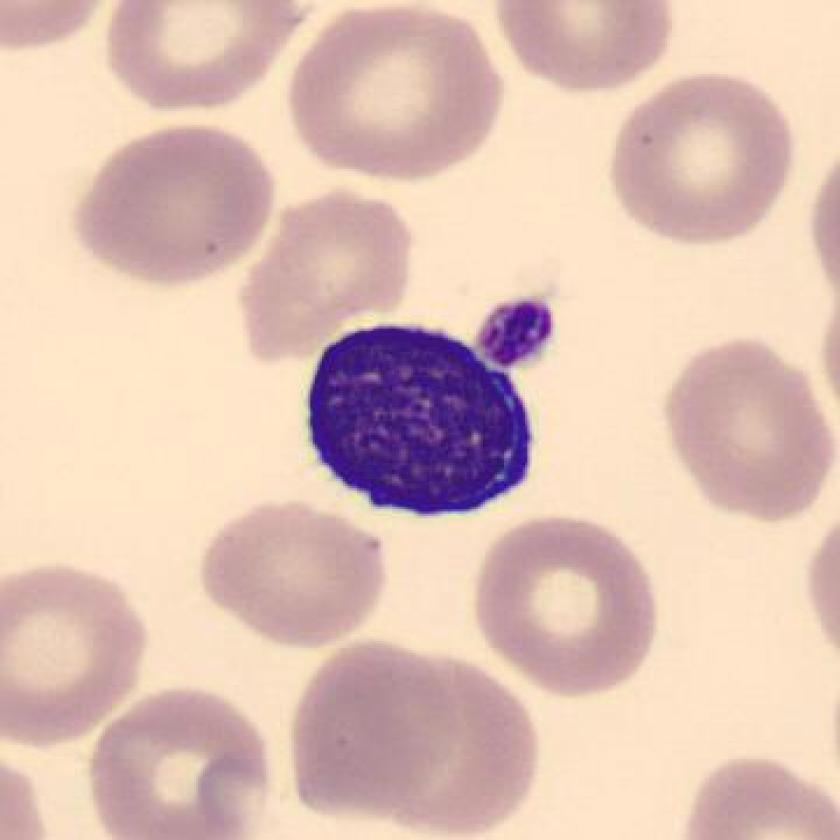lymphocyte: (288, 318, 542, 538)
platelets: (469, 292, 560, 371)
